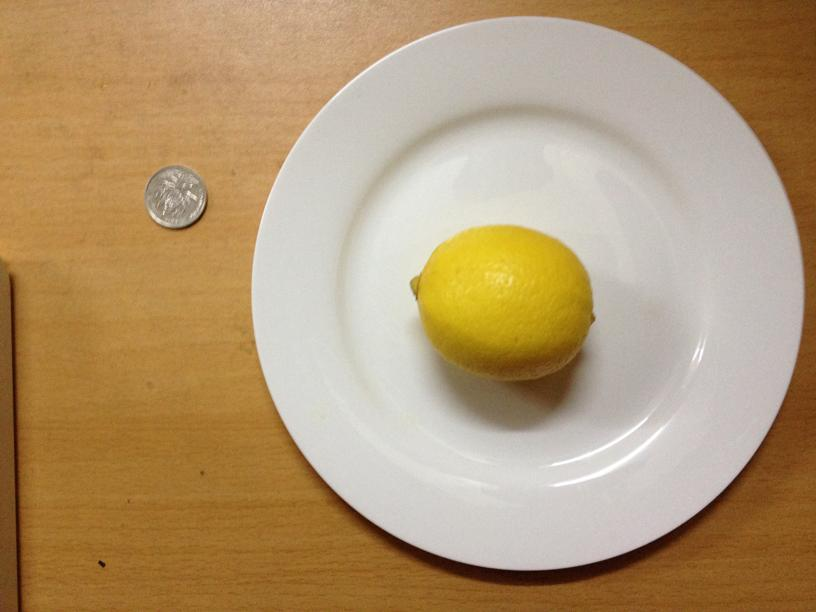coin: (145, 165, 205, 229)
lemon: (414, 228, 591, 382)
